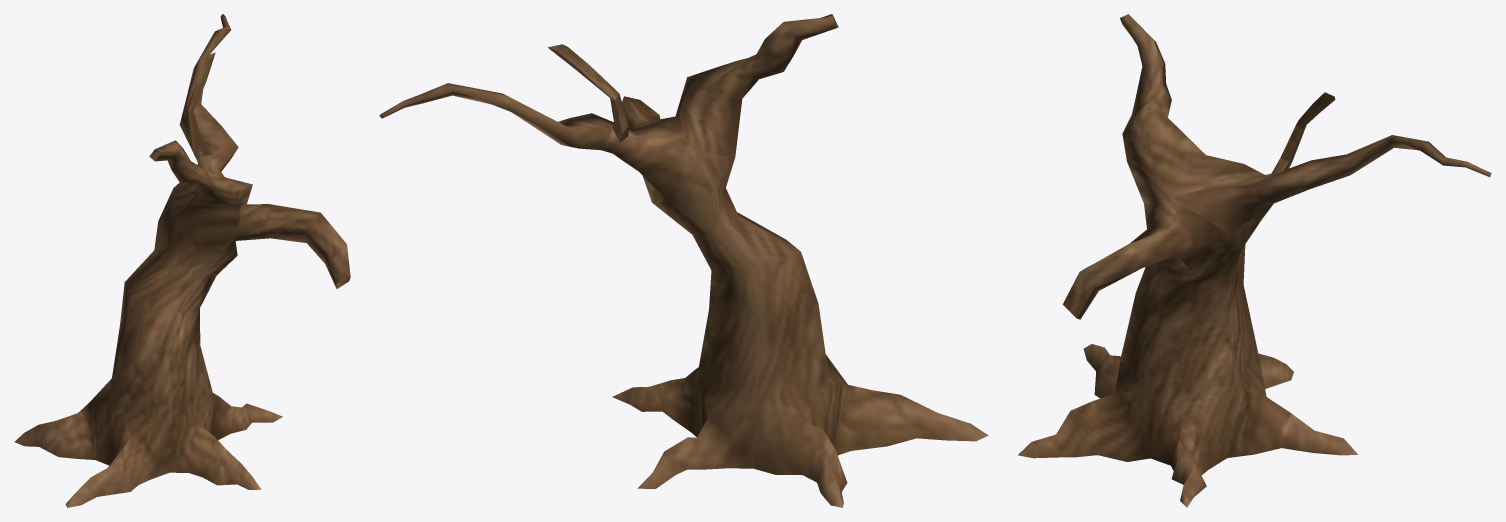
The model's file is new_tree_5.FBX.
3 views of the same model, side by side, from view 1: azimuth 30°, elevation 25°; view 2: azimuth 150°, elevation 25°; view 3: azimuth 270°, elevation 25° (orthographic). The views are drawn at different scales.
Parts seen in each view (by area): view 1: new_tree_005; view 2: new_tree_005; view 3: new_tree_005.
Part boxes in pixels (x1,y1,x2,y2): new_tree_005: (14,14,350,507); new_tree_005: (379,14,988,507); new_tree_005: (1018,14,1491,507).
Size of the model in its own units: 100 by 98.9 by 103.
Materials: 1 (1 with a texture image).
